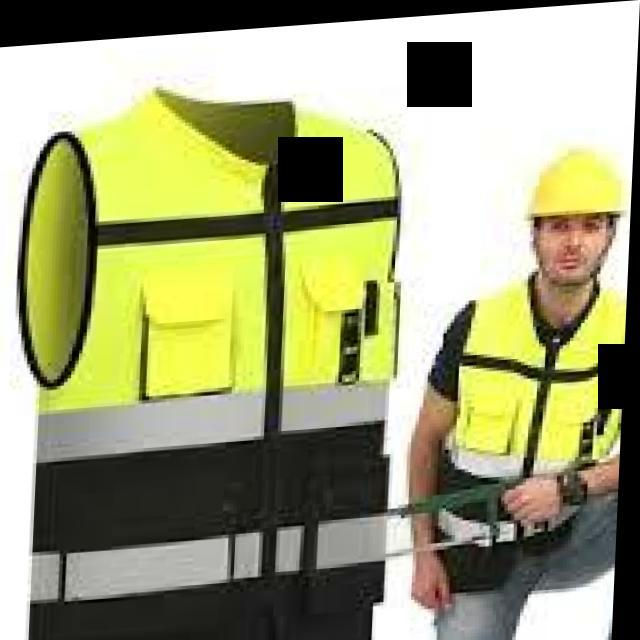safety_helmet: (523, 148, 629, 222)
